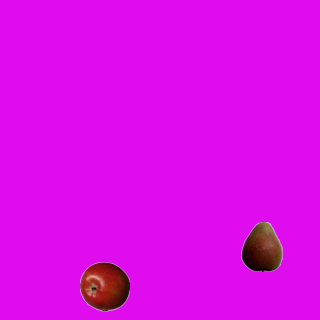Apple Braeburn: (79, 261, 129, 311)
Pear Forelle: (236, 221, 286, 271)
